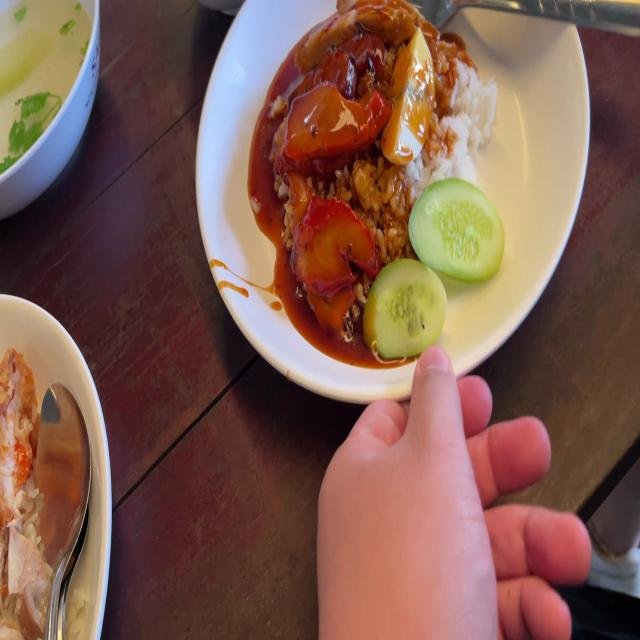01boiled_egg: (383, 27, 435, 160)
01chainese_sausage: (303, 41, 375, 93)
01crispy_pork: (301, 0, 426, 40)
01red_pork: (284, 187, 373, 318), (284, 87, 384, 160)
01red_pork_and_crispy_pork: (277, 0, 505, 359)
boiled_chicken: (0, 530, 50, 636)
chicken_rice: (0, 349, 65, 639)
cucumber: (406, 180, 506, 278), (370, 258, 447, 354)
fried_chicken: (0, 339, 37, 515)
